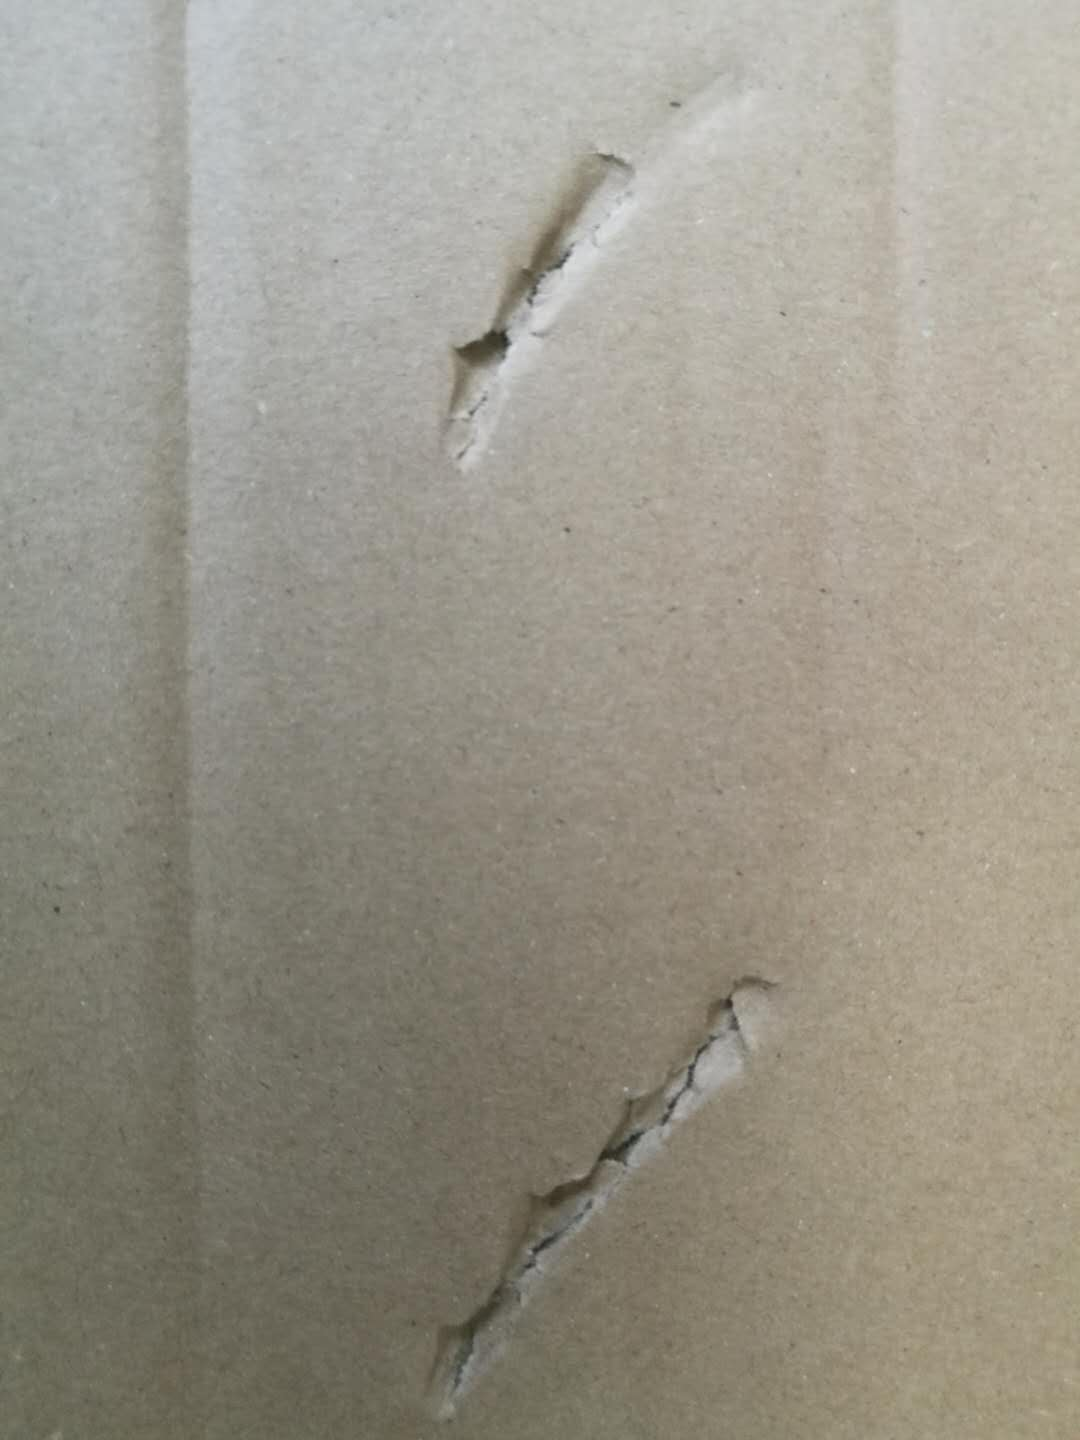defect: (94, 5, 299, 1439), (383, 945, 819, 1435), (386, 65, 722, 495)
